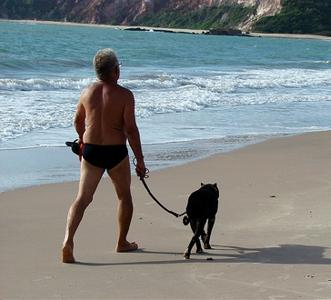person: (64, 50, 147, 265)
